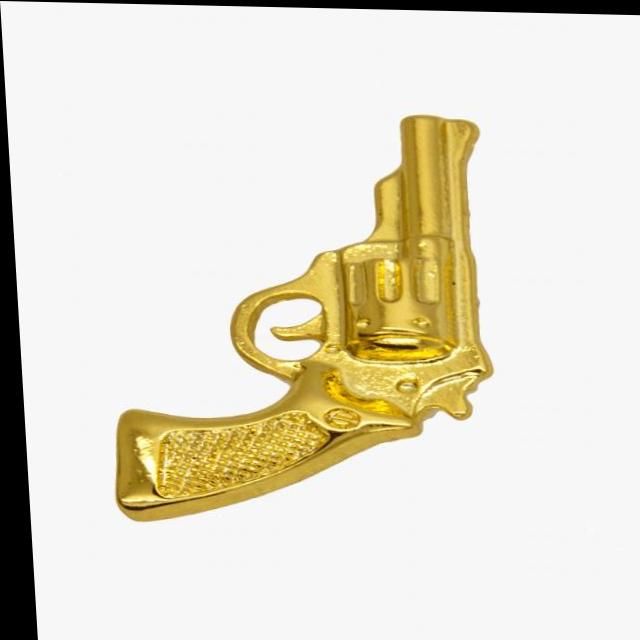handgun: (92, 109, 501, 527)
